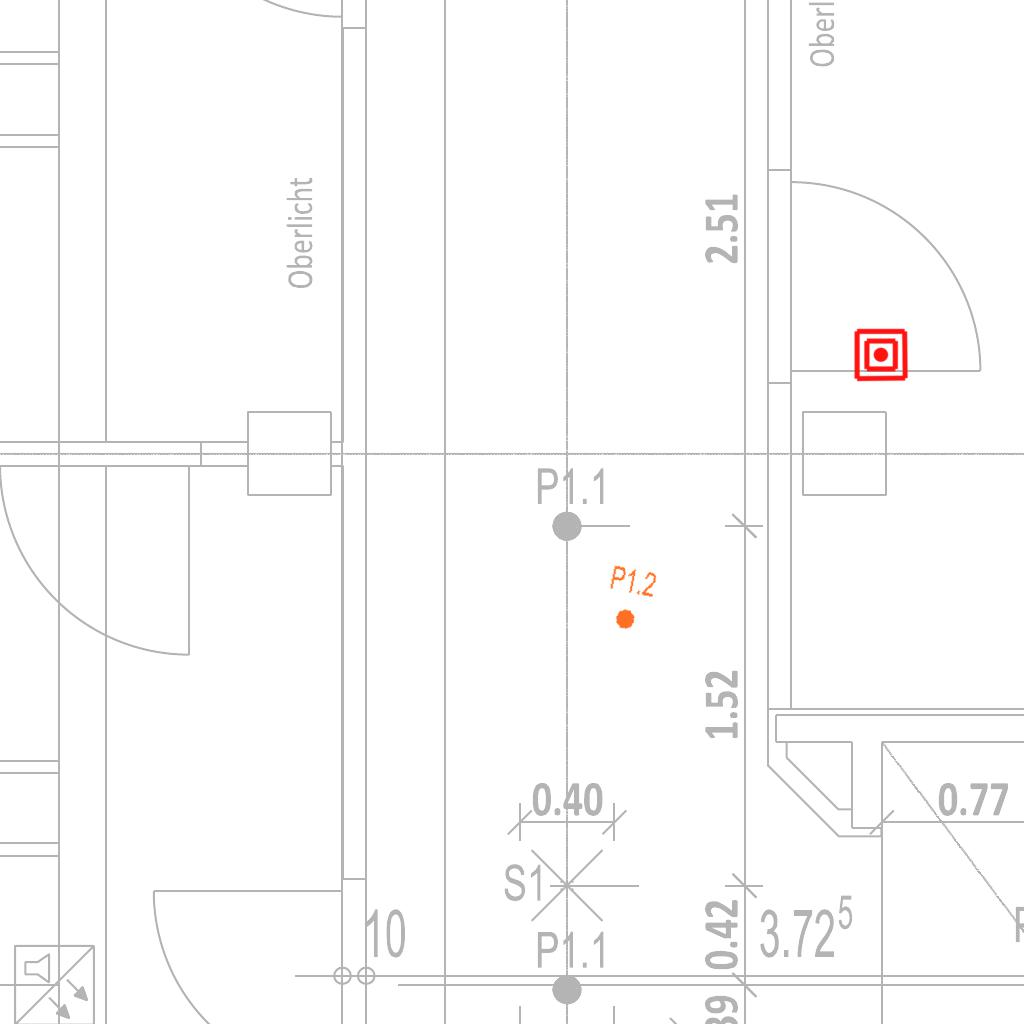Downlight_LED_Einbauleuchten_Flur: (601, 563, 659, 635)
NAM-Nichtautomatischer_Melder: (853, 327, 909, 383)
